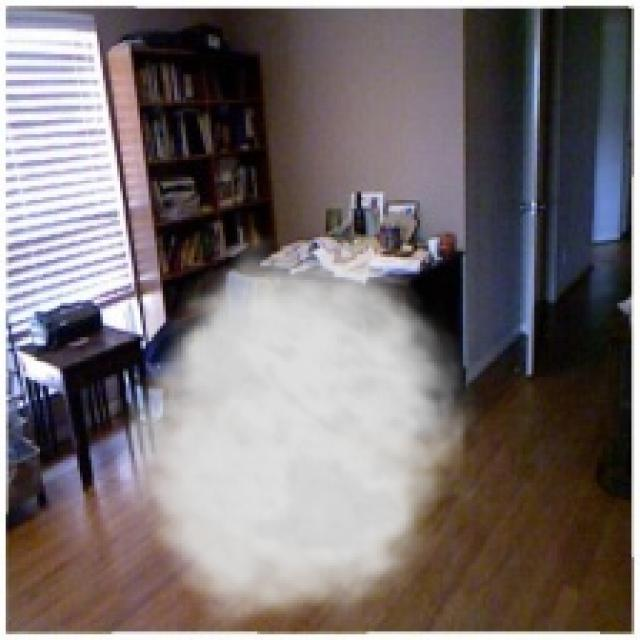smoke: (111, 234, 488, 637)
